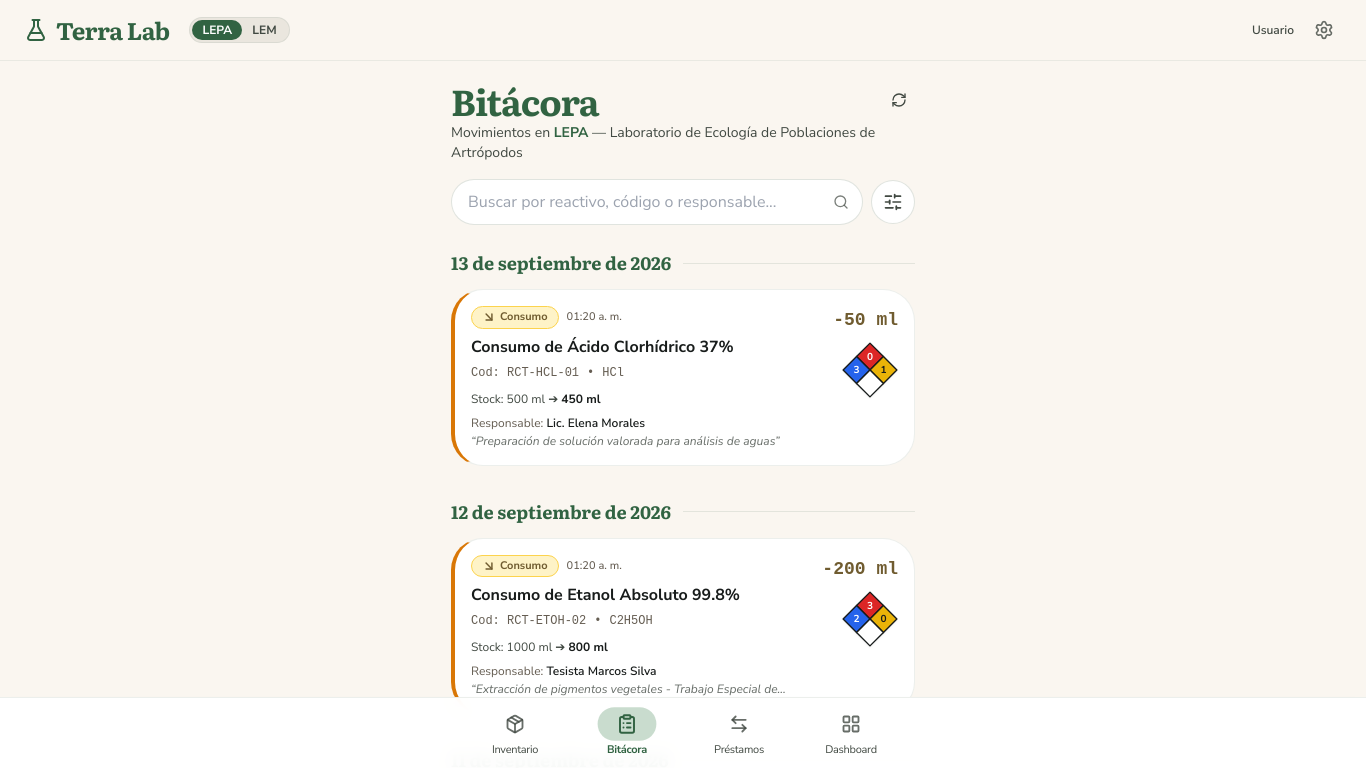
Test: BitacoraView Component (HU06) › opens BitacoraDetailModal when clicking on a movement card
The width and height of the screenshot is (1366, 768).
Click the heading "Consumo de Ácido Clorhídrico 37%": [602, 346] box x1=471 y1=336 x2=734 y2=358
(page scrolled)
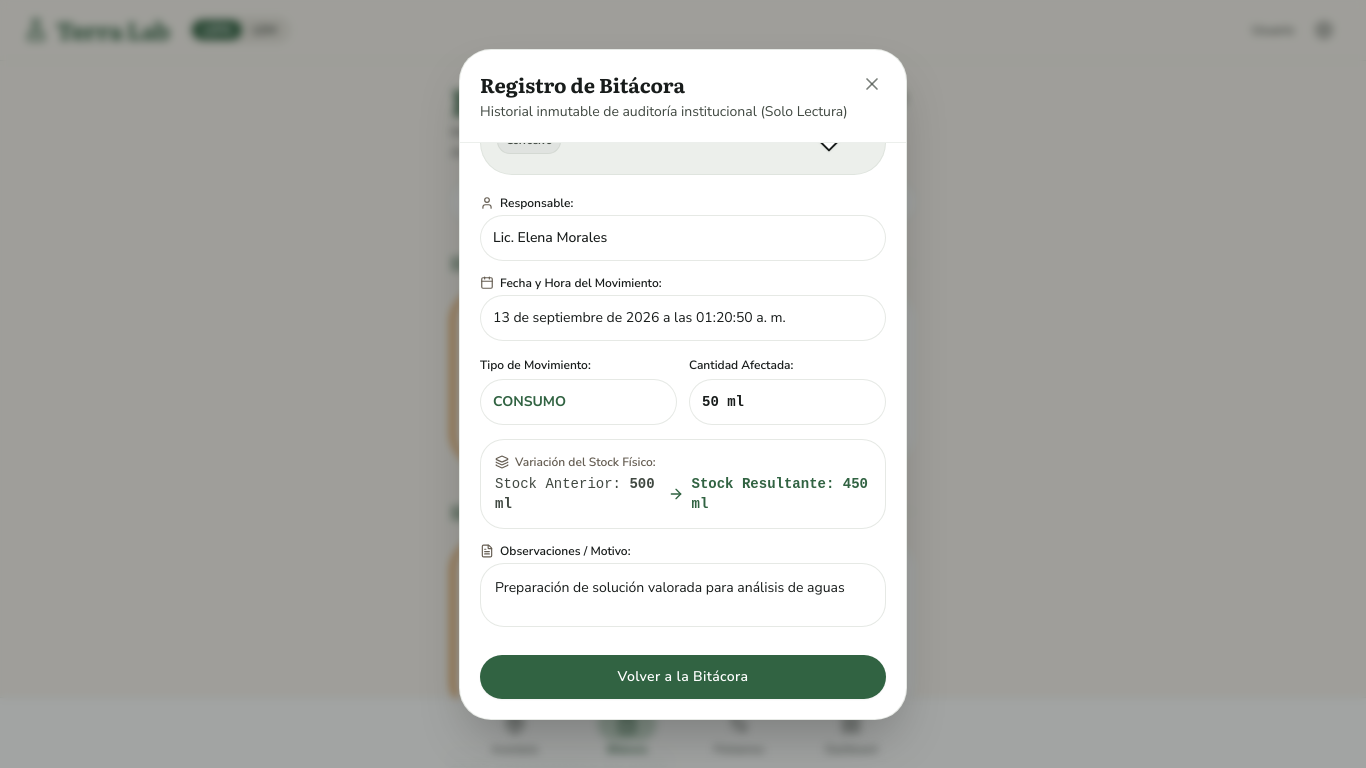
Check: the heading "Registro de Bitácora" is shown, box x1=480 y1=68 x2=685 y2=98
Check: the text "Historial inmutable de auditoría institucional (Solo Lectura)" is shown, box x1=480 y1=102 x2=848 y2=122
Check: the text "Preparación de solución valorada para análisis de aguas" is shown, box x1=480 y1=562 x2=886 y2=626
// Click Volver
Click the button "Volver a la Bitácora": [683, 676] box x1=480 y1=654 x2=886 y2=698
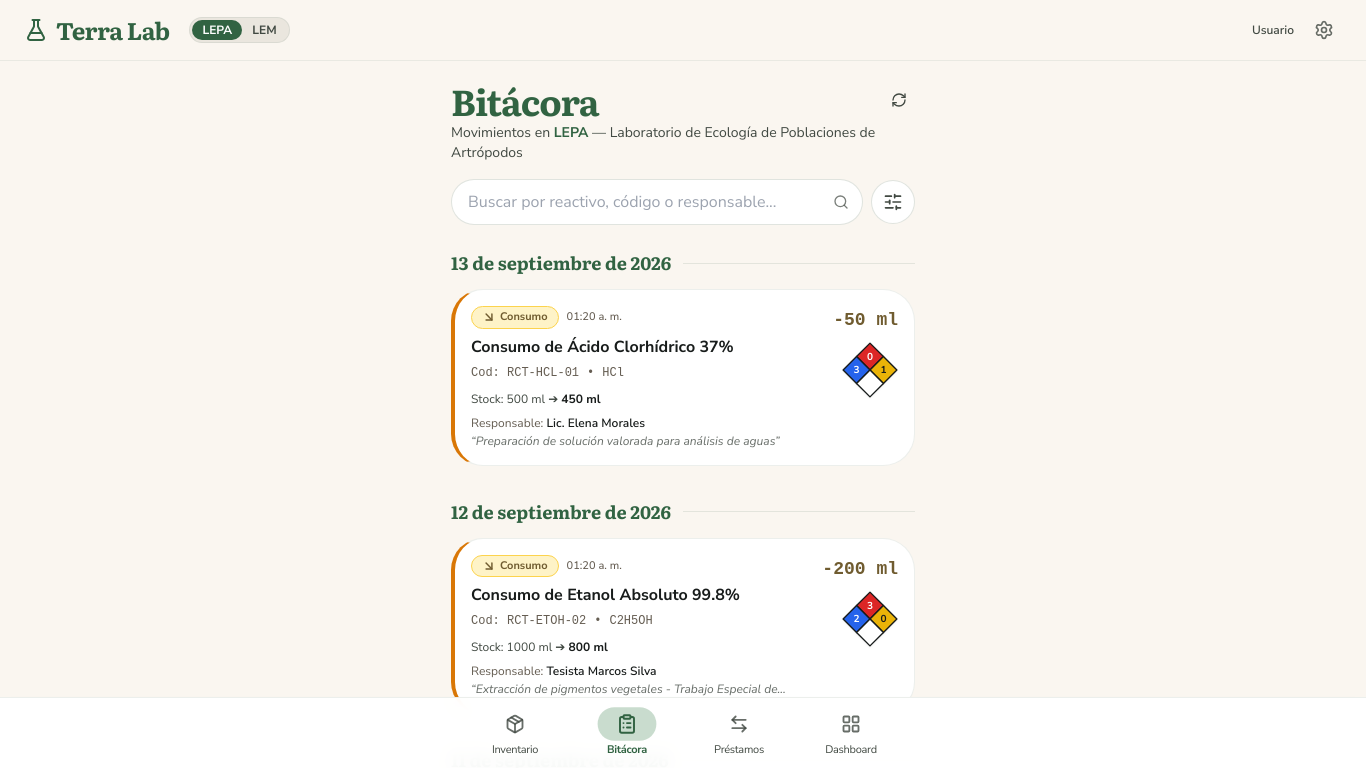
Check: the heading "Registro de Bitácora" is gone
